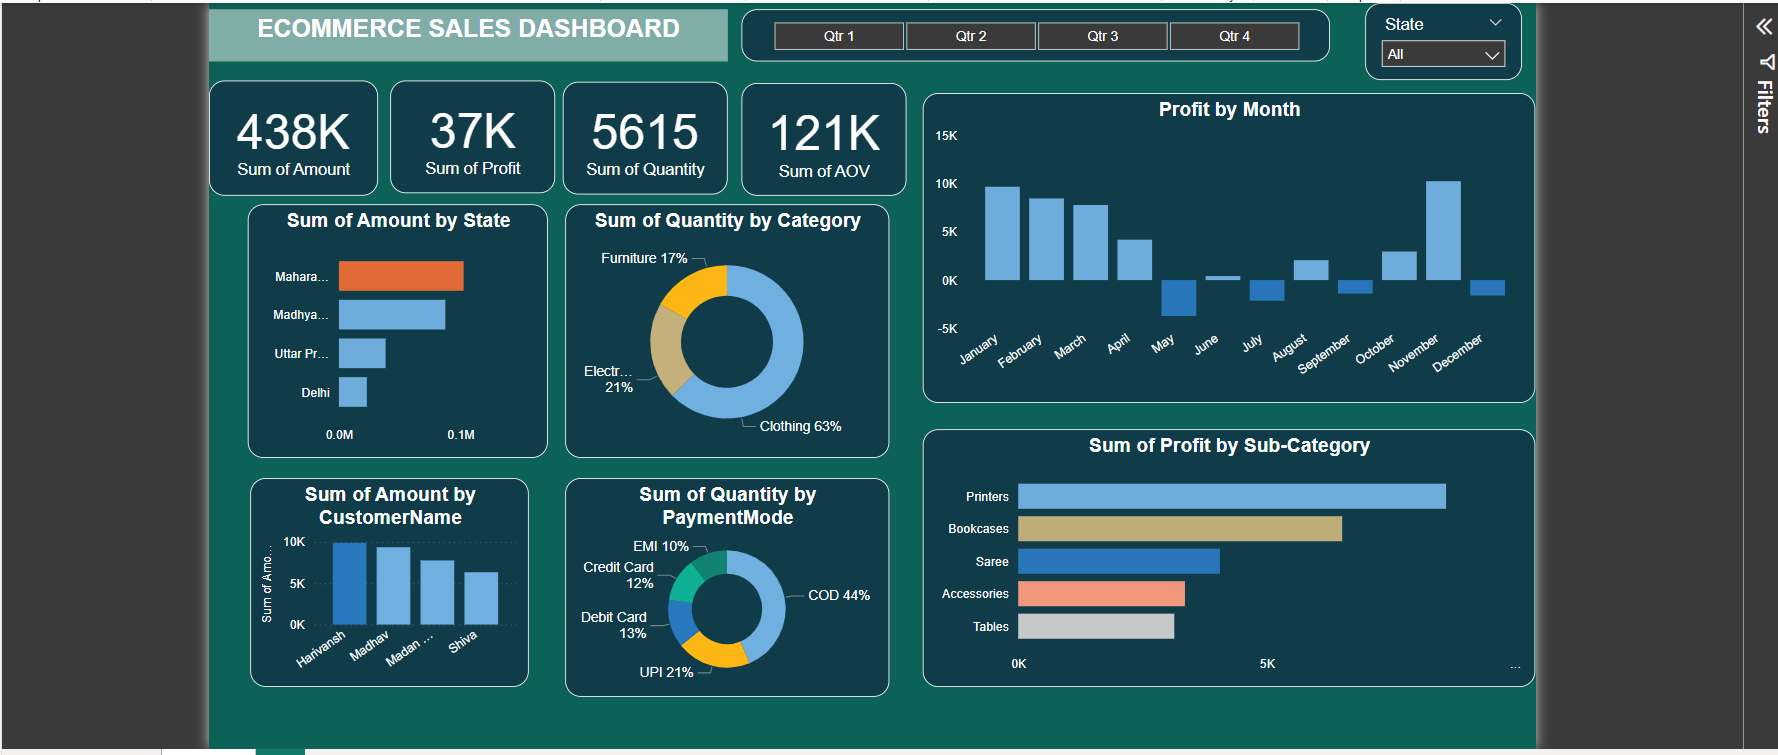

The dashboard page shown, as its layout file describes it:
{"tool":"powerbi","page":{"name":"Page 1","canvas":[1280,720],"ordinal":0},"visuals":[{"type":"columnChart","title":" Profit by Month","fields":{"Category":["Orders.Order Date.Variation.Date Hierarchy.Month"],"Y":["Sum(Details.Profit)"]},"box":[688.9,86.9,591.2,299.2],"z":0},{"type":"barChart","fields":{"Category":["Details.Sub-Category"],"Y":["Sum(Details.Profit)"]},"box":[688.9,411.4,591.2,248.5],"z":1000},{"type":"donutChart","fields":{"Category":["Details.Category"],"Y":["Sum(Details.Quantity)"]},"box":[343.8,194.2,312.5,244.9],"z":2000},{"type":"donutChart","fields":{"Category":["Details.PaymentMode"],"Y":["Sum(Details.Quantity)"]},"box":[343.8,458.4,312.5,211.1],"z":3000},{"type":"card","fields":{"Values":["Sum(Details.Amount)"]},"box":[0,74.8,162.9,111],"z":4000},{"type":"card","fields":{"Values":["Sum(Details.Quantity)"]},"box":[341.4,76,159.3,108.6],"z":5000},{"type":"card","fields":{"Values":["Sum(Details.Profit)"]},"box":[174.9,74.8,159.3,108.6],"z":6000},{"type":"card","fields":{"Values":["Sum(Details.AOV)"]},"box":[513.9,77.2,159.3,108.6],"z":7000},{"type":"barChart","fields":{"Y":["Sum(Details.Amount)"],"Category":["Orders.State"]},"box":[37.4,194.2,289.5,244.9],"z":8000},{"type":"columnChart","fields":{"Category":["Orders.CustomerName"],"Y":["Sum(Details.Amount)"]},"box":[39.8,458.4,269,201.5],"z":9000},{"type":"textbox","box":[0,6,500.7,50.7],"z":10000},{"type":"slicer","fields":{"Values":["Orders.Order Date.Variation.Date Hierarchy.Quarter"]},"box":[513.9,6,568.2,50.7],"z":11000},{"type":"slicer","fields":{"Values":["Orders.State"]},"box":[1116,0,150.8,74.8],"z":12000}]}

Visuals, with their boxes on the page's 1280x720 design canvas (x1, y1, x2, y2). These are canvas units, not pixel positions in the 1778x755 screenshot, which may show the page scaled, cropped or inside an application window:
" Profit by Month" columnChart: crop(689, 87, 1280, 386)
barChart - Details.Sub-Category x Sum(Details.Profit): crop(689, 411, 1280, 660)
donutChart - Details.Category x Sum(Details.Quantity): crop(344, 194, 656, 439)
donutChart - Details.PaymentMode x Sum(Details.Quantity): crop(344, 458, 656, 670)
card - Sum(Details.Amount): crop(0, 75, 163, 186)
card - Sum(Details.Quantity): crop(341, 76, 501, 185)
card - Sum(Details.Profit): crop(175, 75, 334, 183)
card - Sum(Details.AOV): crop(514, 77, 673, 186)
barChart - Sum(Details.Amount) x Orders.State: crop(37, 194, 327, 439)
columnChart - Orders.CustomerName x Sum(Details.Amount): crop(40, 458, 309, 660)
textbox: crop(0, 6, 501, 57)
slicer - Orders.Order Date.Variation.Date Hierarchy.Quarter: crop(514, 6, 1082, 57)
slicer - Orders.State: crop(1116, 0, 1267, 75)
